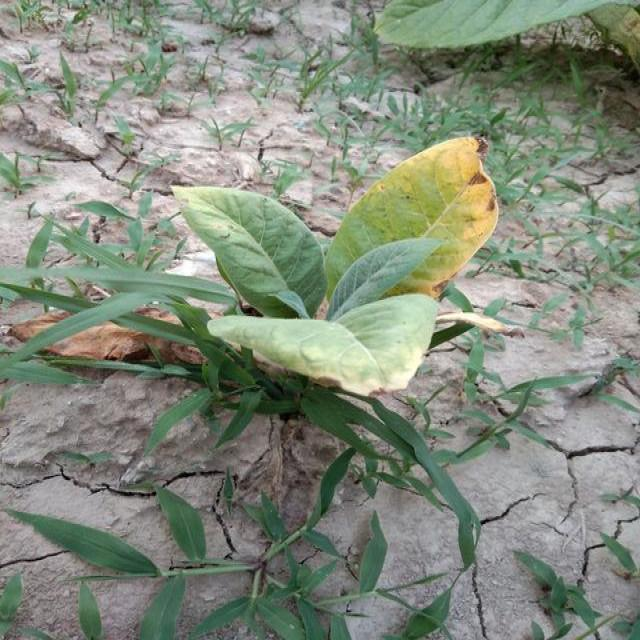crop: (176, 138, 508, 397)
